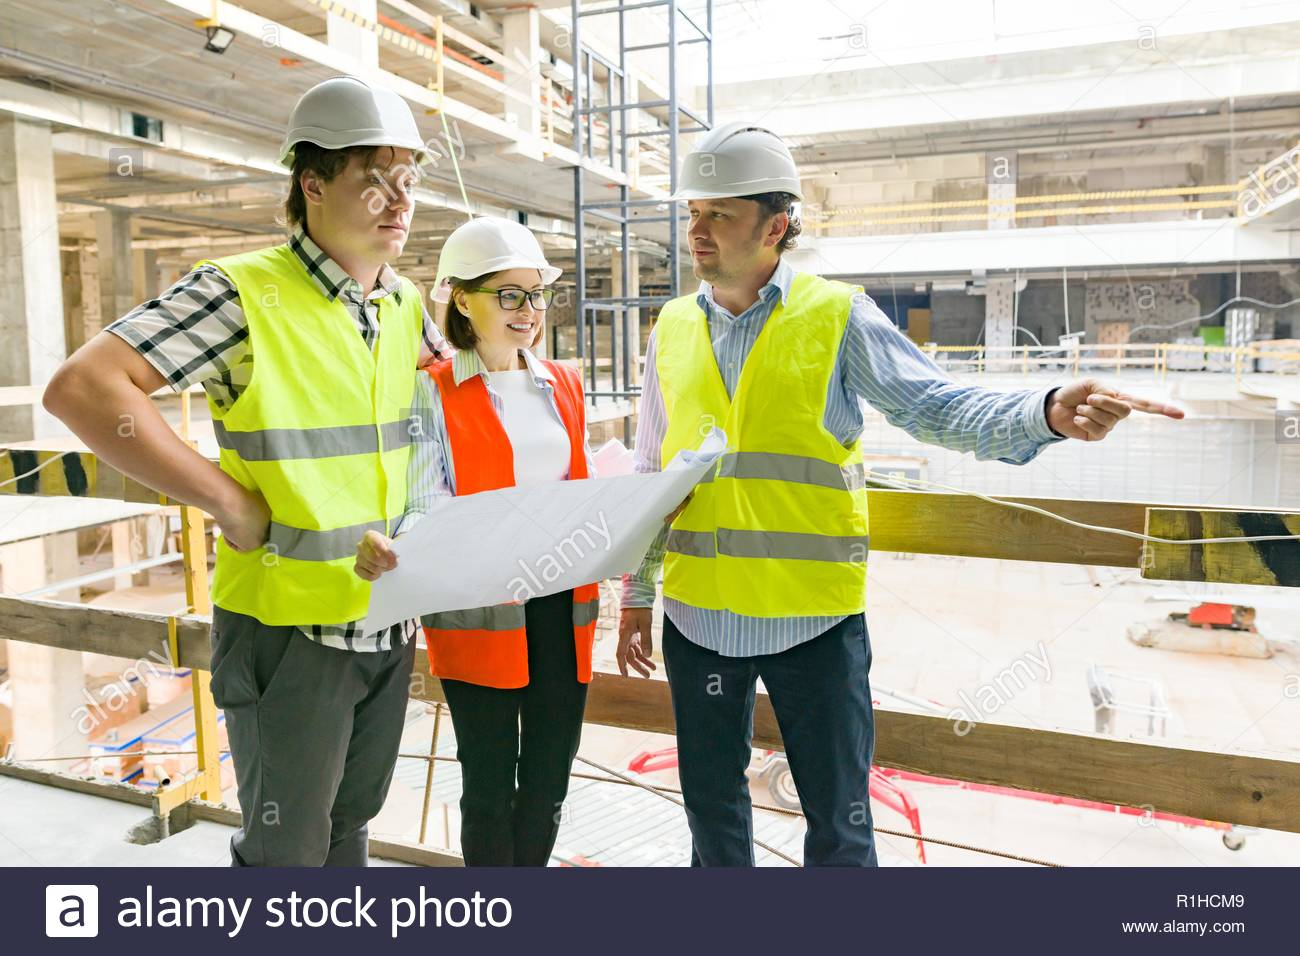casco: (280, 75, 443, 175), (659, 119, 807, 205), (426, 214, 564, 305)
